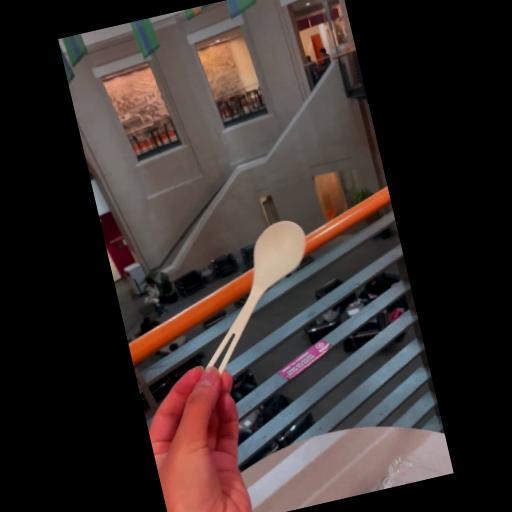utensil: (172, 214, 334, 388)
